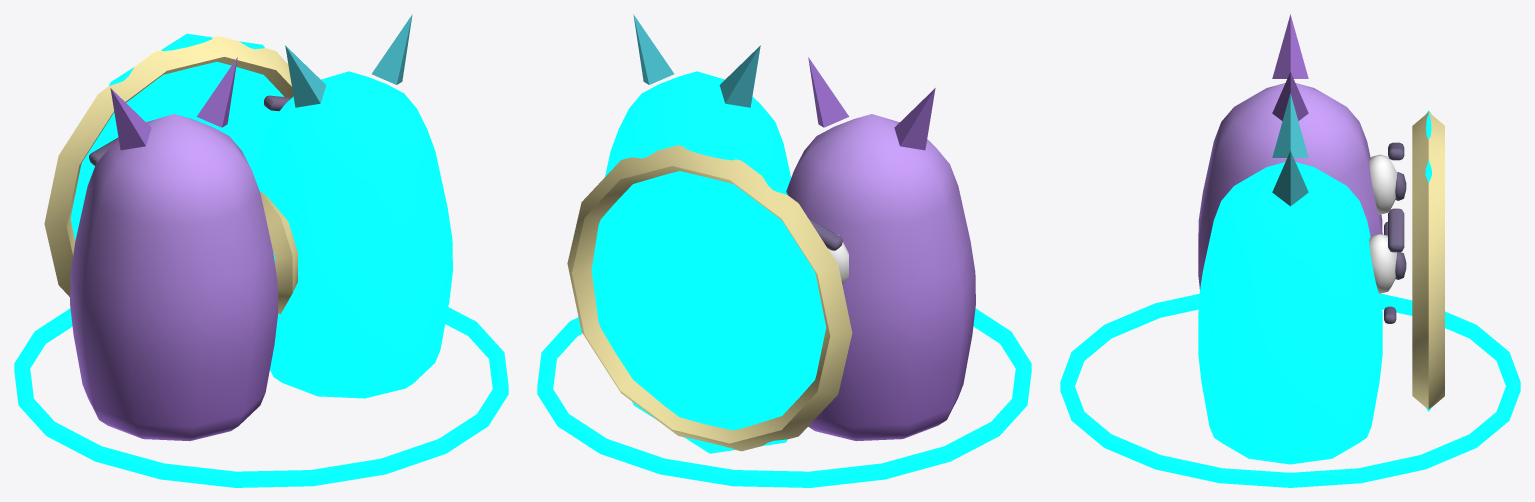
Rendered from art_x_aegis.glb.
3 renders of one model, left to right at view 1: azimuth 30°, elevation 25°; view 2: azimuth 150°, elevation 25°; view 3: azimuth 270°, elevation 25°, orthographic. The views are drawn at different scales.
Parts seen in each view (by area): view 1: Glow_00E5FF, Body, Prop, Head, Eye; view 2: Glow_00E5FF, Body, Prop, Head, Eye; view 3: Glow_00E5FF, Body, Prop, Head, Eye.
Part boxes in pixels (x1=…): Glow_00E5FF: x1=14, y1=33, x2=508, y2=487; Body: x1=70, y1=114, x2=278, y2=441; Prop: x1=44, y1=36, x2=297, y2=313; Head: x1=110, y1=14, x2=412, y2=150; Eye: x1=89, y1=95, x2=291, y2=165; Glow_00E5FF: x1=537, y1=71, x2=1031, y2=487; Body: x1=786, y1=114, x2=975, y2=441; Prop: x1=567, y1=145, x2=852, y2=451; Head: x1=633, y1=14, x2=935, y2=150; Eye: x1=808, y1=218, x2=848, y2=284; Glow_00E5FF: x1=1060, y1=110, x2=1520, y2=487; Body: x1=1198, y1=83, x2=1382, y2=289; Prop: x1=1412, y1=112, x2=1444, y2=409; Head: x1=1272, y1=14, x2=1308, y2=206; Eye: x1=1369, y1=142, x2=1406, y2=293.
Size of the model in its own units: 4.53 by 3.5 by 4.53.
